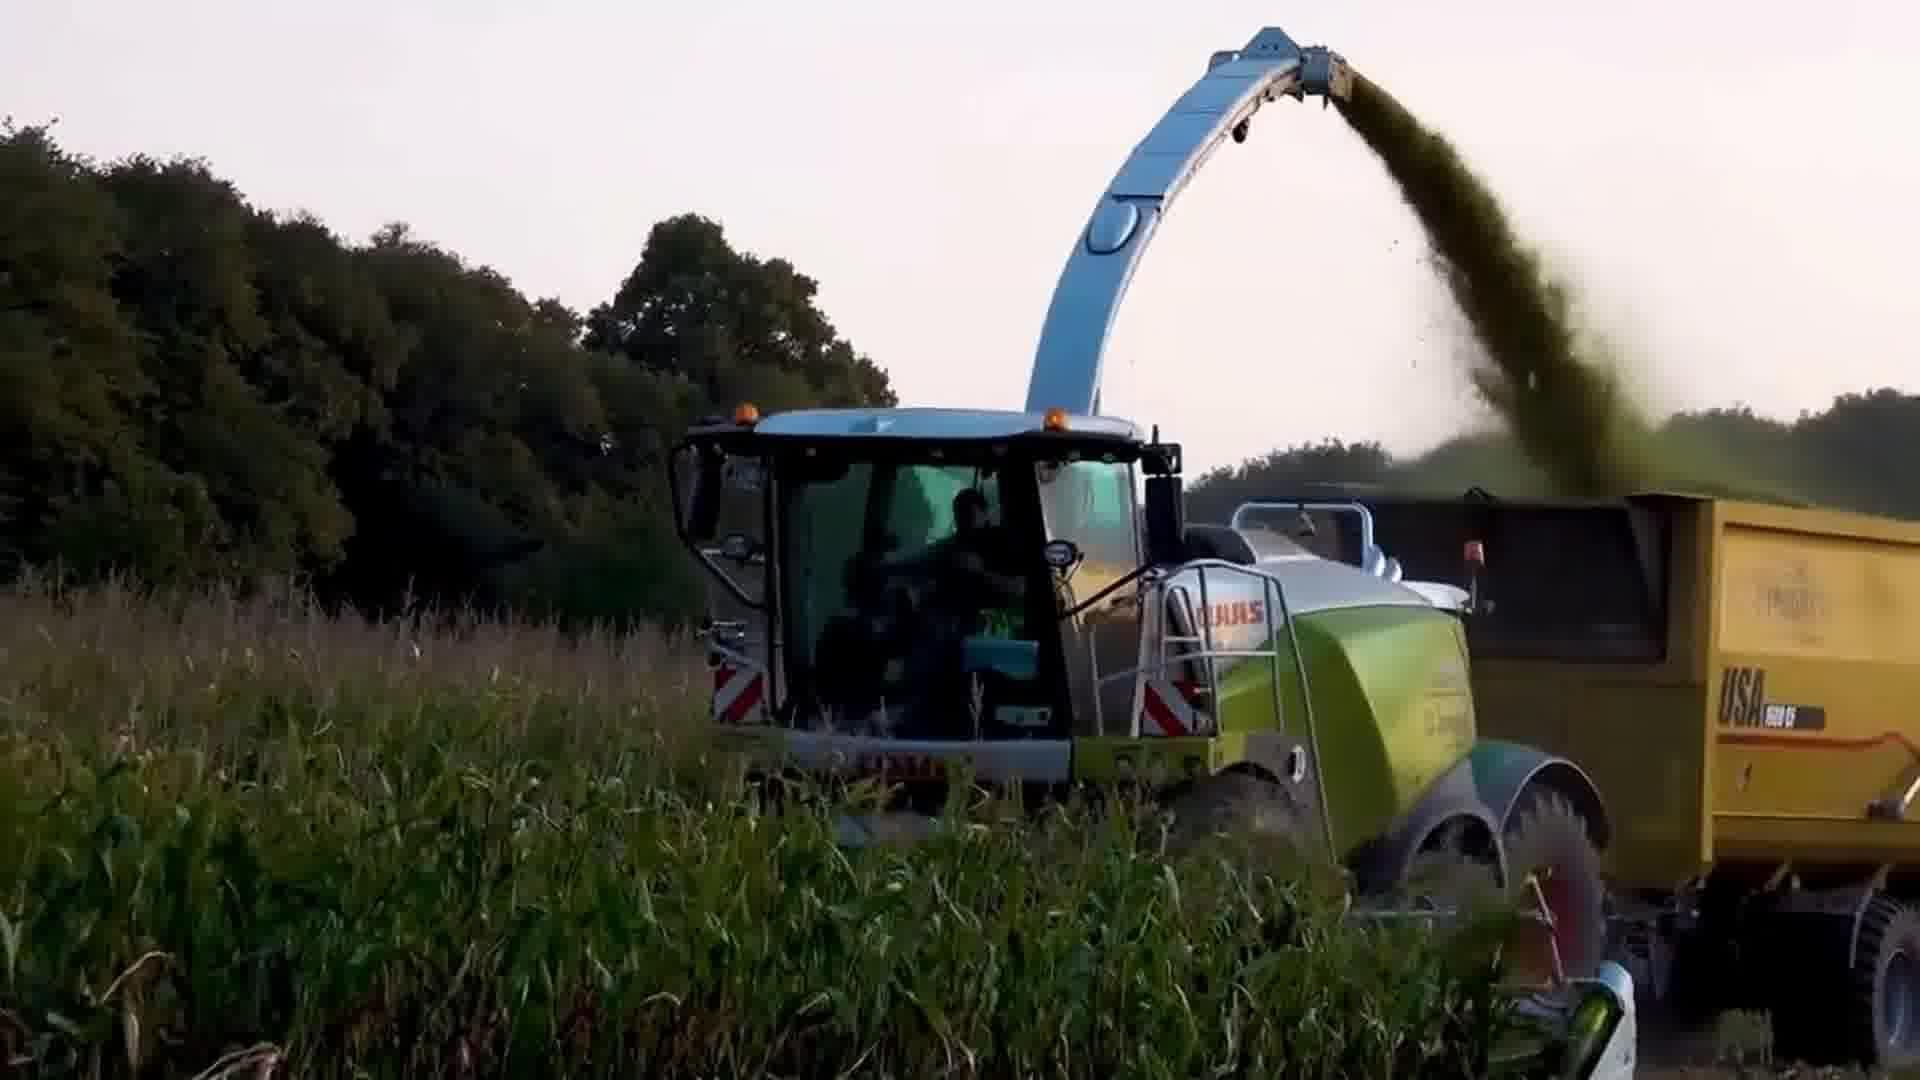combine harvester: (654, 15, 1652, 1080)
trailer: (1291, 471, 1920, 1080)
